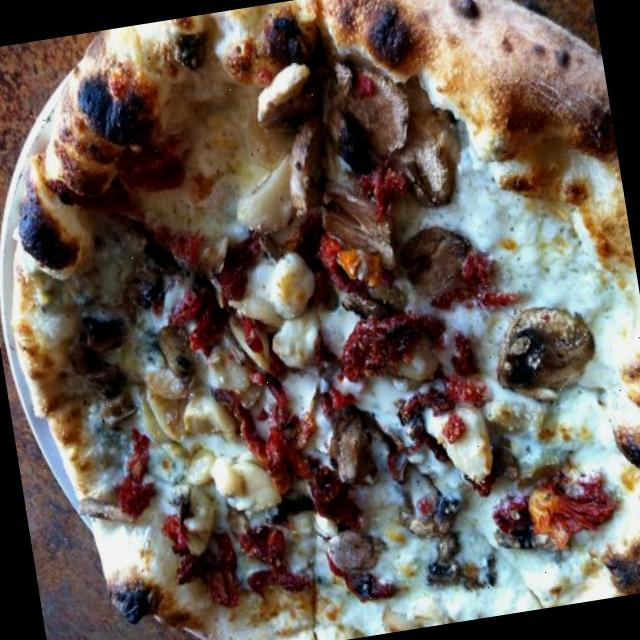mushrooms: (492, 291, 616, 412), (306, 163, 416, 292), (382, 474, 488, 580), (389, 210, 485, 326), (326, 59, 419, 169), (395, 94, 474, 216), (266, 106, 342, 228), (243, 41, 323, 152), (150, 306, 212, 391), (318, 518, 386, 594)
pizza: (12, 0, 640, 640)
tomato: (174, 506, 318, 612), (232, 361, 334, 497), (514, 455, 632, 562), (327, 301, 446, 386), (105, 431, 168, 523)
